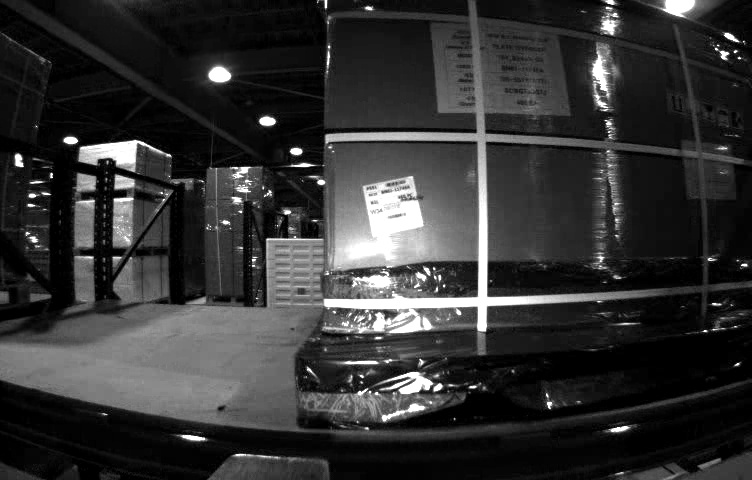True Barcode: (361, 174, 426, 240)
